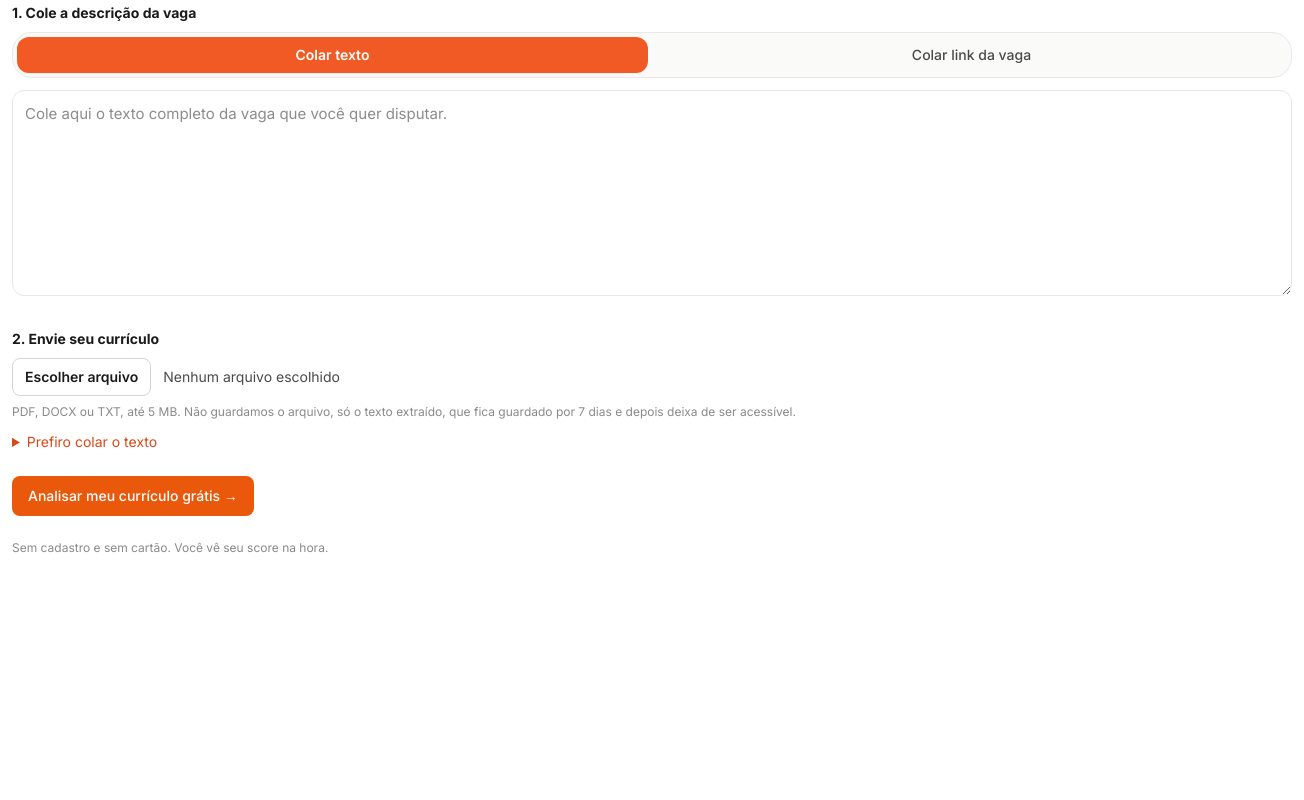
Test: <AnonAtsForm /> — vaga por link › busca com sucesso: o texto vai pro CAMPO DE REVISÃO, não direto pra análise
The image size is (1304, 800).
Click the tab "Colar link da vaga".
click(972, 55)  # box top-left (656, 37), bottom-right (1287, 73)
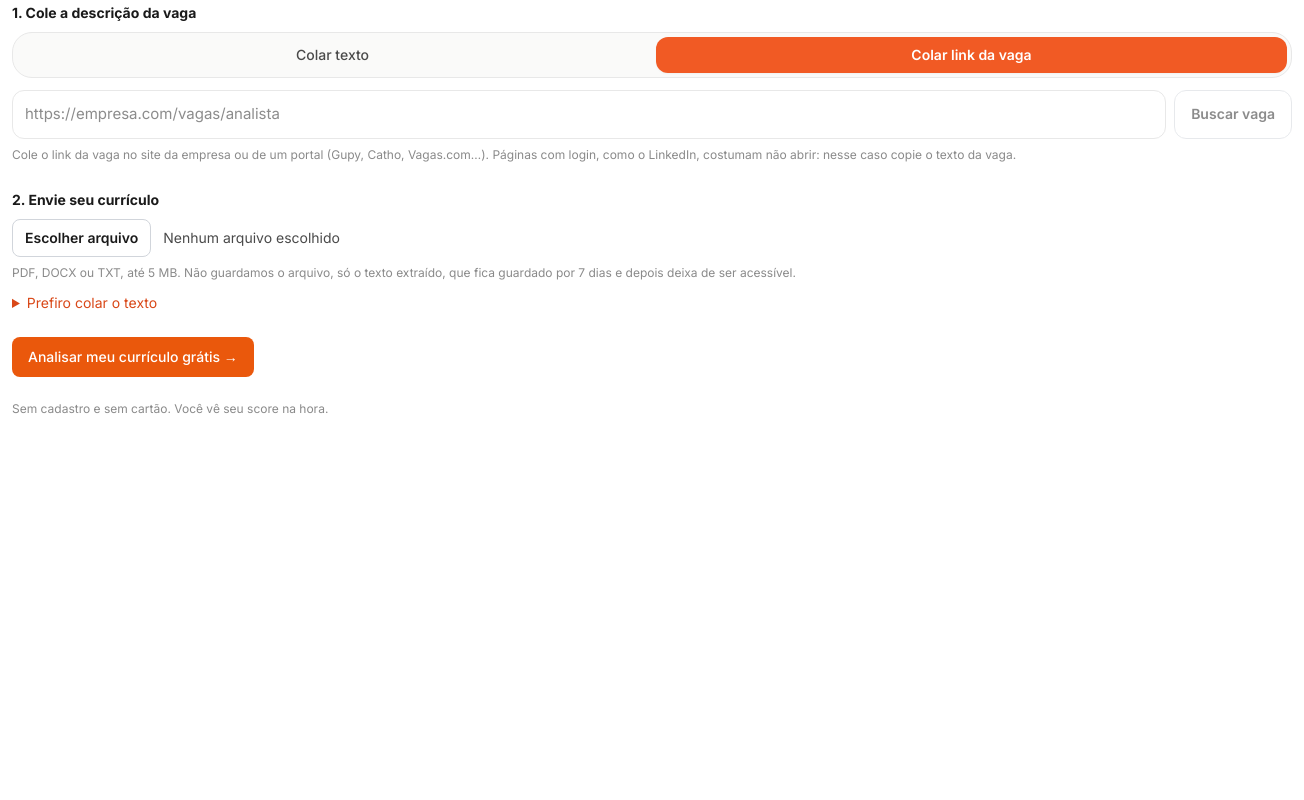
Type "https://www.catho.com.br/vagas/x/1/" into the field named "link da vaga".
click(589, 114); type("https://www.catho.com.br/vagas/x/1/")  # box top-left (12, 90), bottom-right (1166, 138)
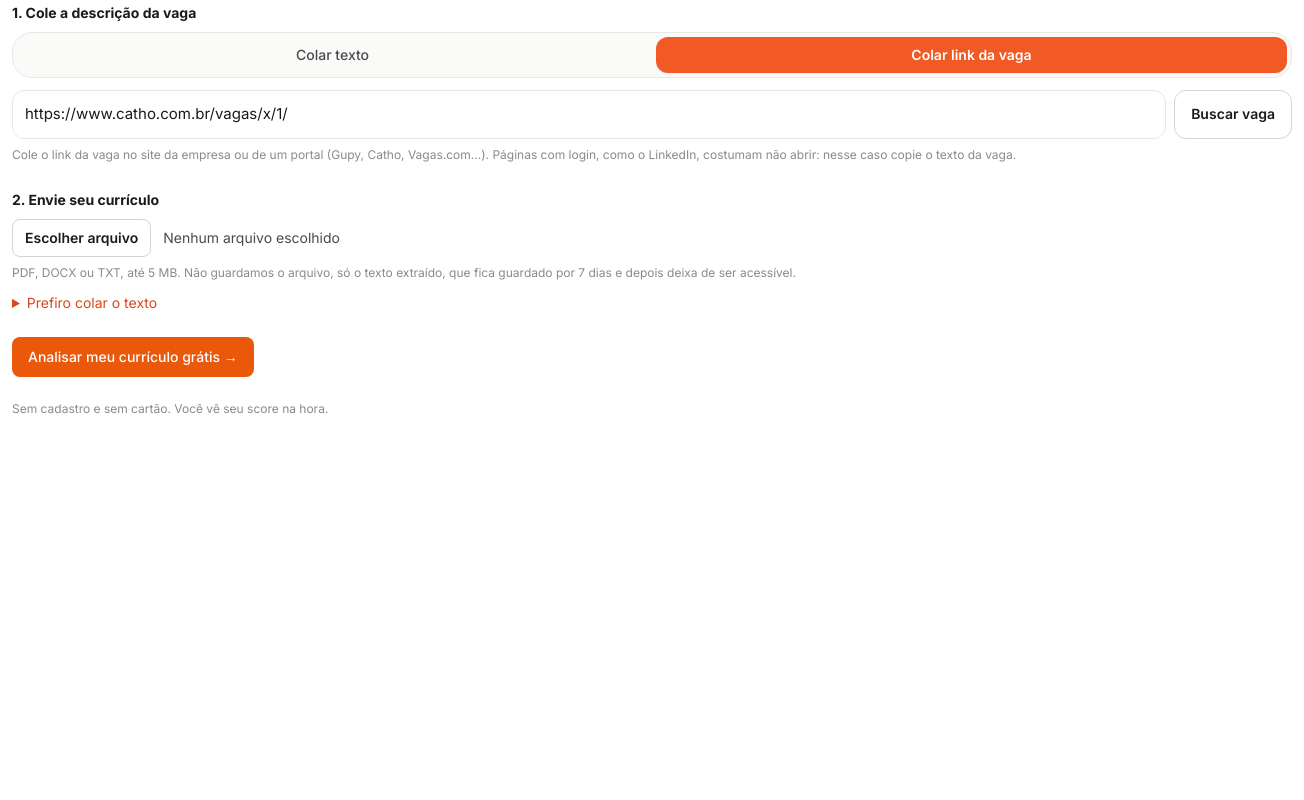
Click the button "Buscar vaga".
click(1233, 114)  # box top-left (1174, 90), bottom-right (1292, 138)
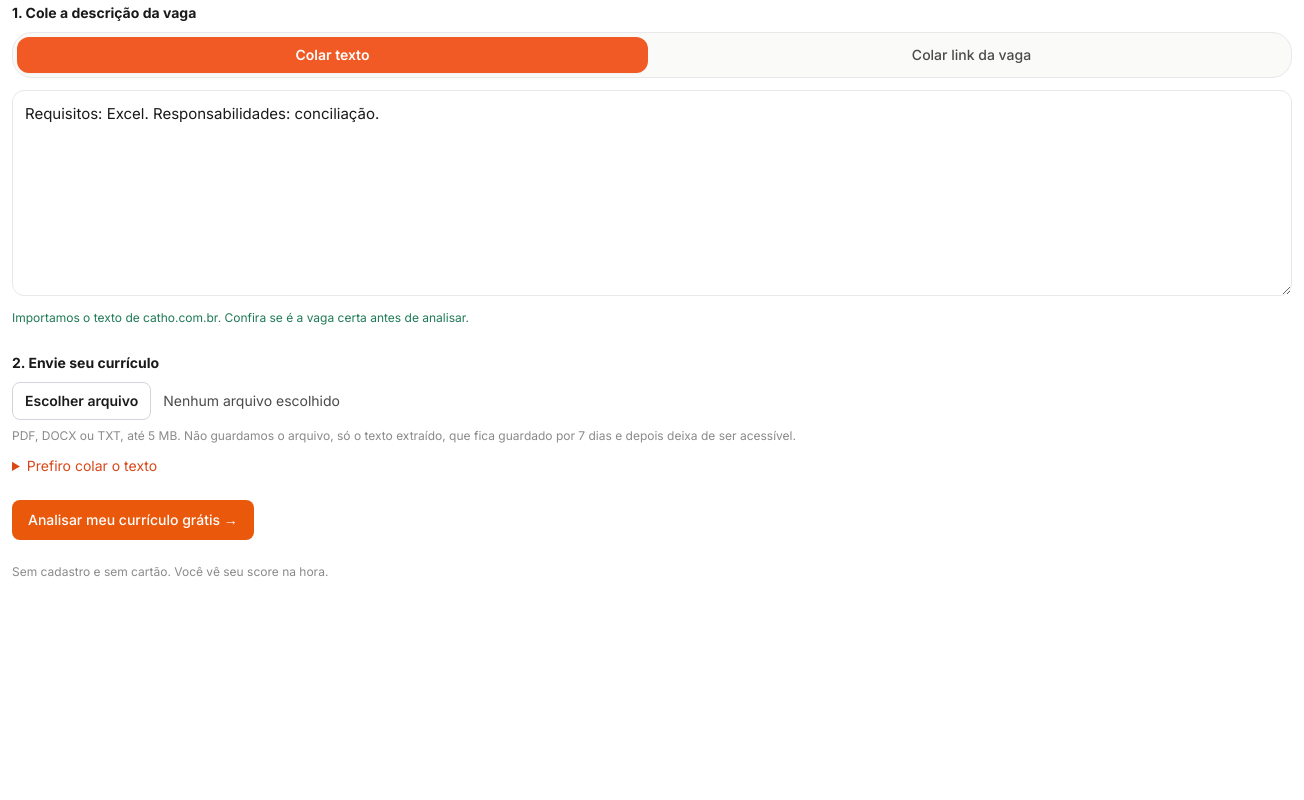
Check: the message shows "Importamos o texto de catho.com.br", box top-left (12, 310), bottom-right (469, 325)
Check: the message shows "Confira se é a vaga certa", box top-left (12, 310), bottom-right (469, 325)
